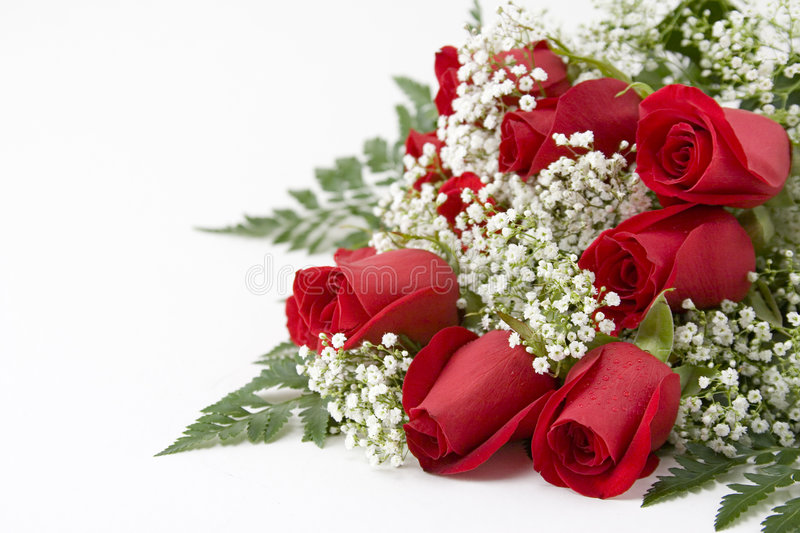RedRose: (582, 185, 764, 349), (537, 341, 698, 510), (406, 311, 558, 478), (277, 226, 481, 339), (631, 75, 800, 203)
